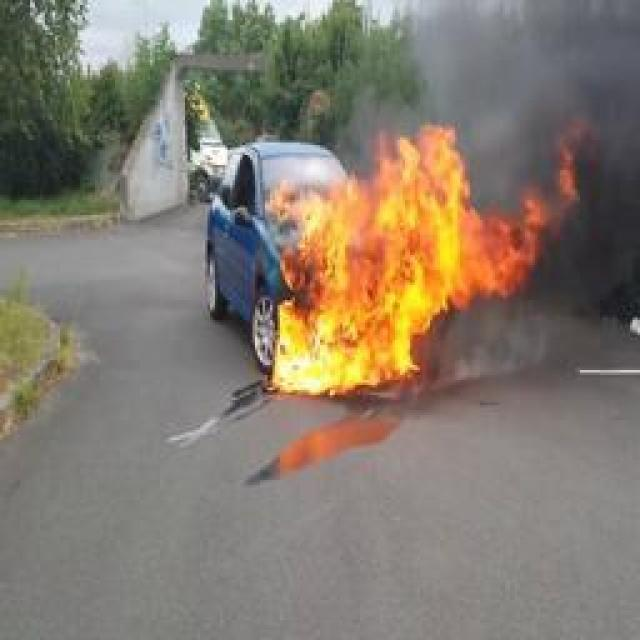Fire: (270, 124, 590, 396)
